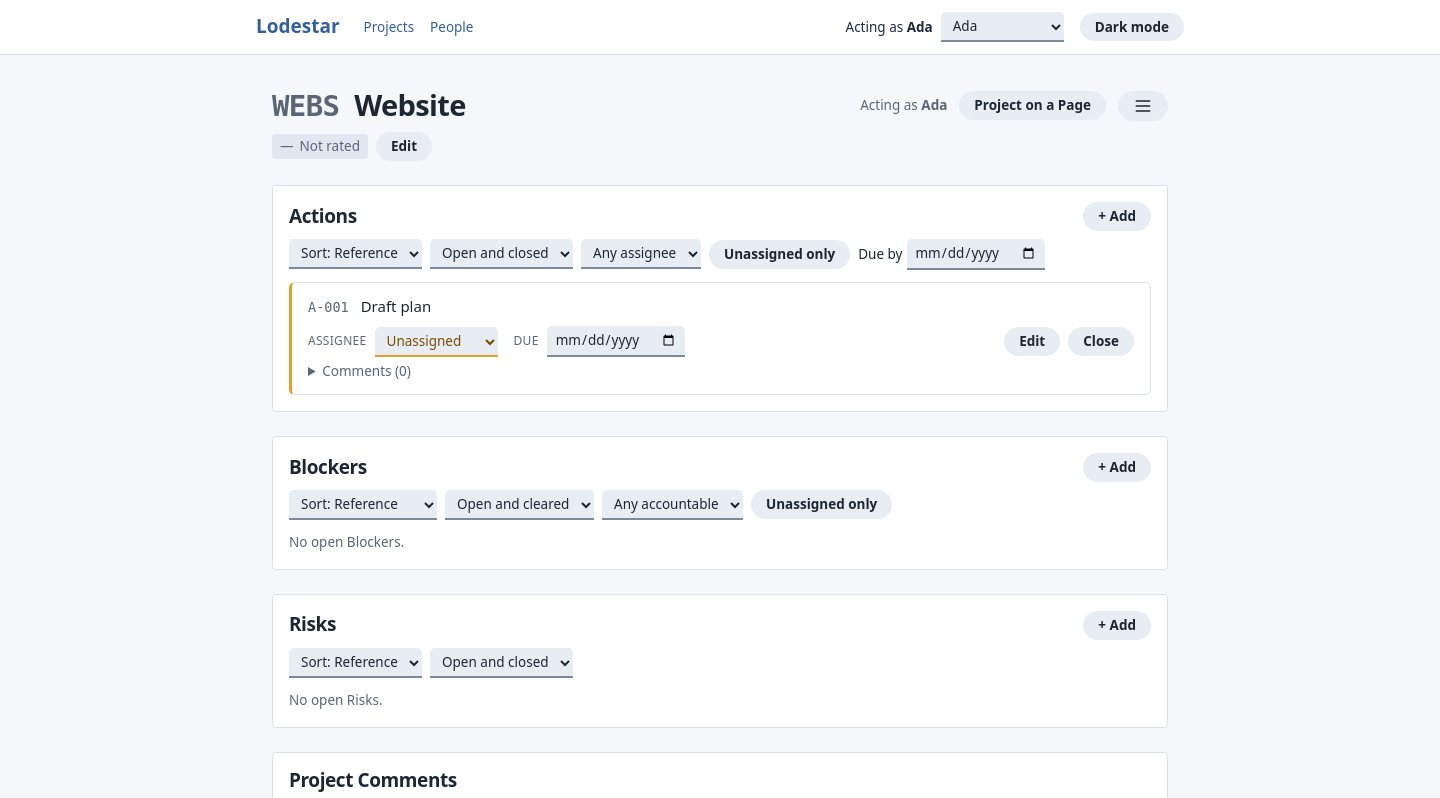
Test: Actions panel › cancels a new Person with Esc (#59)
Select "New Person…" in the dropdown named "Assignee of A-001" at [436, 342], box x1=374 y1=327 x2=498 y2=357
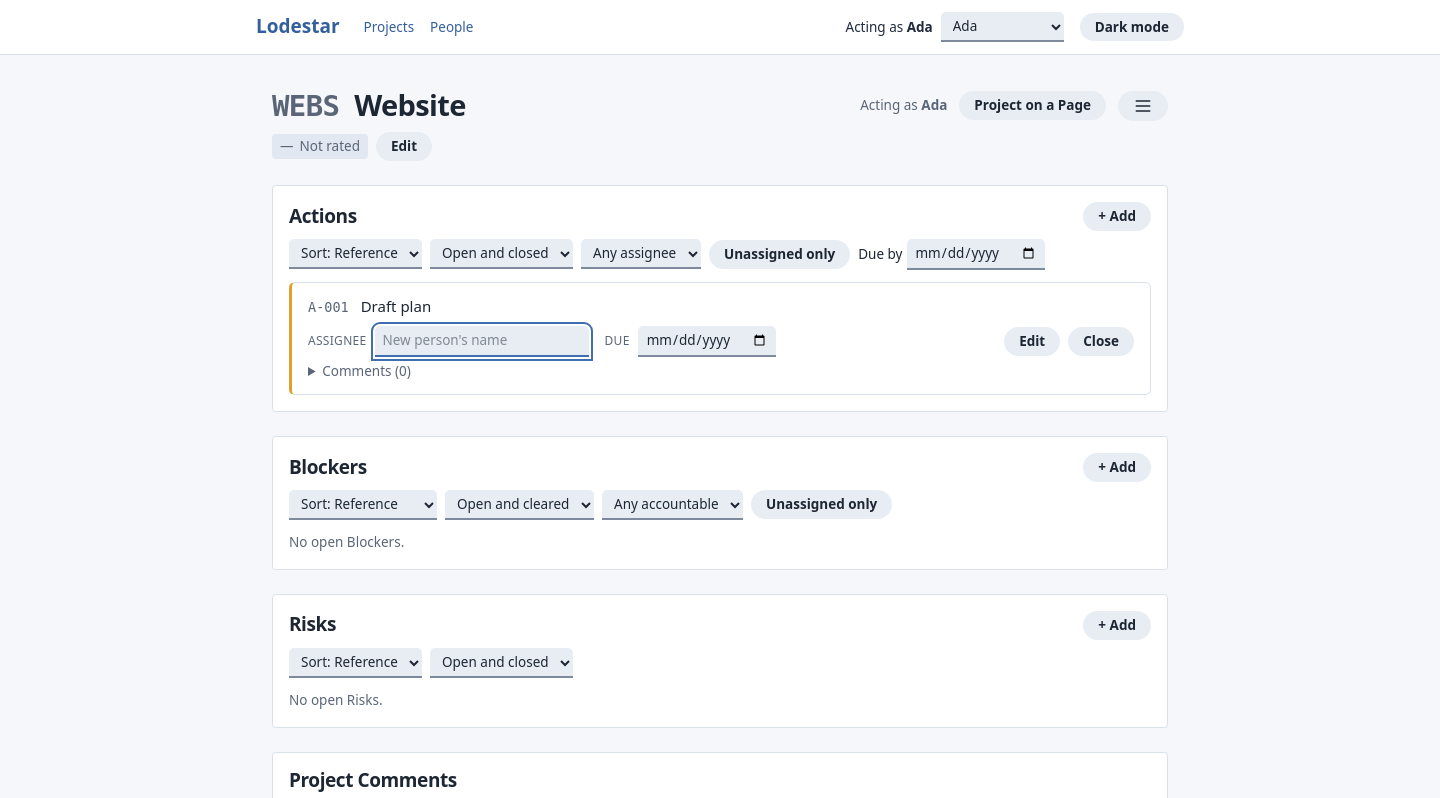
Type "Dave" into the field named "New assignee of A-001" at [482, 342], box x1=374 y1=326 x2=588 y2=357
Then press Escape
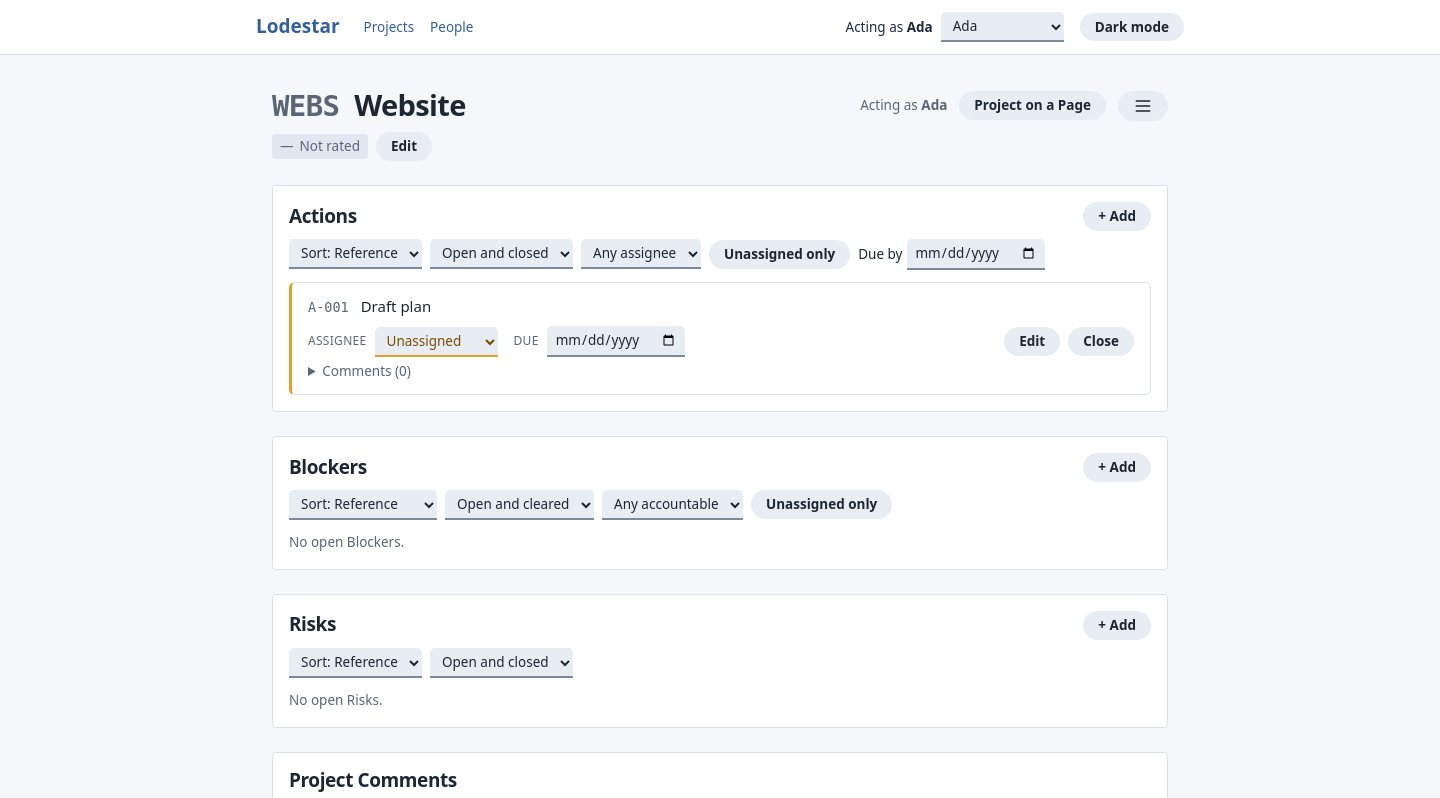
Result: the dropdown named "Assignee of A-001" shows "Unassigned" at x1=374 y1=327 x2=498 y2=357
